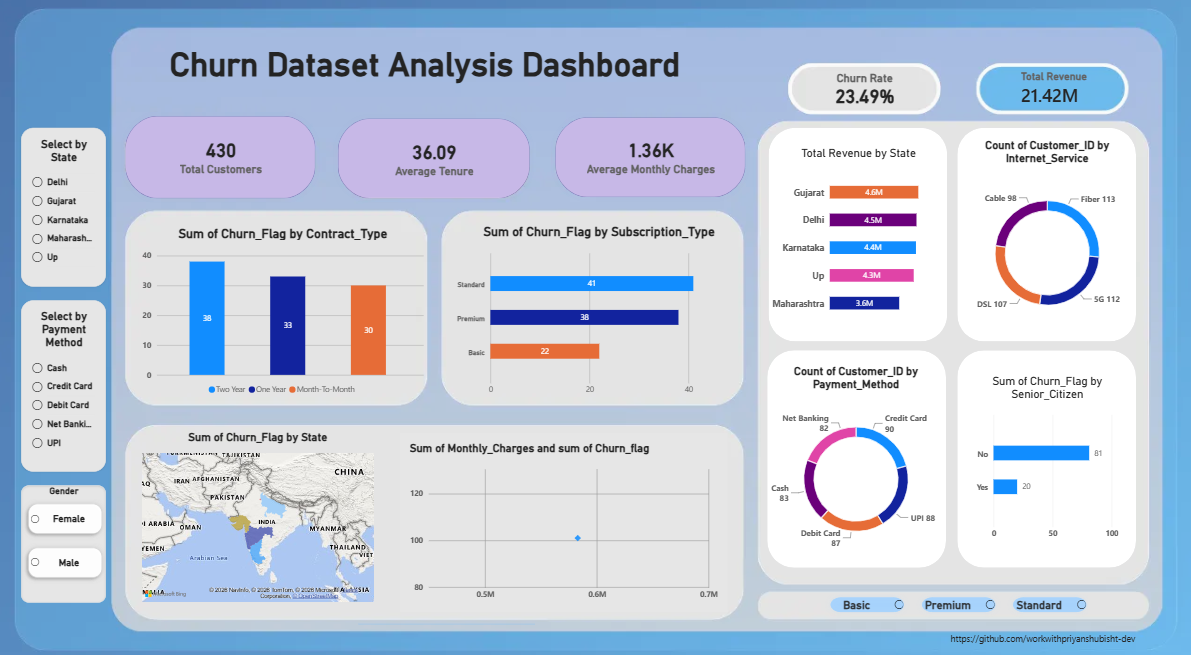

This screenshot's page, from the dashboard's own definition file:
{"tool":"powerbi","page":{"name":"Page 1","canvas":[1920,1080],"ordinal":0},"visuals":[{"type":"shape","box":[579.1,936.2,282.2,144.4],"z":0},{"type":"cardVisual","fields":{"Data":["measures dax.Total Customers"]},"box":[196,184,326,154],"z":1000},{"type":"cardVisual","fields":{"Data":["measures dax.Average Tenure"]},"box":[536,188,329,150],"z":2000},{"type":"cardVisual","fields":{"Data":["measures dax.Average Monthly Charges"]},"box":[884,186,326,150],"z":3000},{"type":"cardVisual","fields":{"Data":["measures dax.Total Revenue"]},"box":[1624,116,144,70],"z":4000},{"type":"cardVisual","fields":{"Data":["measures dax.Churn Rate"]},"box":[1306,106,168,94],"z":5000},{"type":"textbox","box":[278,82,956,102],"z":6000},{"type":"columnChart","title":"Sum of Churn_Flag by Contract_Type","fields":{"Category":["cleaned_churn_data.Contract_Type"],"Series":["cleaned_churn_data.Contract_Type"],"Y":["Sum(cleaned_churn_data.Churn_Flag)"]},"box":[218,356,482,306],"z":7000},{"type":"barChart","title":"Sum of Churn_Flag by Subscription_Type","fields":{"Category":["cleaned_churn_data.Subscription_Type"],"Series":["cleaned_churn_data.Subscription_Type"],"Y":["Sum(cleaned_churn_data.Churn_Flag)"]},"box":[720,354,490,308],"z":8000},{"type":"filledMap","title":"Sum of Churn_Flag by State ","fields":{"Category":["cleaned_churn_data.State"],"Series":["cleaned_churn_data.State"]},"box":[218,684,402,306],"z":9000},{"type":"scatterChart","title":"Sum of Monthly_Charges and sum of Churn_flag","fields":{"X":["Sum(cleaned_churn_data.Monthly_Charges)"],"Y":["Sum(cleaned_churn_data.Churn_Flag)"]},"box":[645,702.5,525,287.5],"z":10000},{"type":"shape","box":[1236,214,286,342],"z":11000},{"type":"shape","box":[1538,570,286,348],"z":12000},{"type":"shape","box":[1538,214,286,342],"z":13000},{"type":"shape","box":[1234,570,286,348],"z":14000},{"type":"barChart","title":"Total Revenue by State","fields":{"Category":["cleaned_churn_data.State"],"Series":["cleaned_churn_data.State"],"Y":["measures dax.Total Revenue"]},"box":[1224,230,312,310],"z":15000},{"type":"donutChart","fields":{"Category":["cleaned_churn_data.Internet_Service"],"Y":["CountNonNull(cleaned_churn_data.Customer_ID)"]},"box":[1530,216,304,340],"z":16000},{"type":"donutChart","fields":{"Category":["cleaned_churn_data.Payment_Method"],"Y":["CountNonNull(cleaned_churn_data.Customer_ID)"]},"box":[1224,578,304,340],"z":17000},{"type":"barChart","fields":{"Category":["cleaned_churn_data.Senior_Citizen"],"Y":["Sum(cleaned_churn_data.Churn_Flag)"]},"box":[1552,594,260,298],"z":18000},{"type":"advancedSlicerVisual","fields":{"Values":["cleaned_churn_data.Subscription_Type"]},"box":[1304,954,464,46],"z":19000},{"type":"listSlicer","title":"Select by State","fields":{"Values":["cleaned_churn_data.State"]},"box":[40,214,136,254],"z":20000},{"type":"listSlicer","title":"Select by Payment Method","fields":{"Values":["cleaned_churn_data.Payment_Method"]},"box":[40,490,136,274],"z":21000},{"type":"advancedSlicerVisual","fields":{"Values":["cleaned_churn_data.Gender"]},"box":[40,786,136,188],"z":22000},{"type":"textbox","box":[1474,1022,360,30],"z":22001}]}

Visuals, with their boxes in screenshot pixels (x1, y1, x2, y2), scaled from the page's 1920x1080 canvas onto the 1191x655 screenshot:
shape: x1=359, y1=568, x2=534, y2=654
cardVisual - measures dax.Total Customers: x1=122, y1=112, x2=324, y2=205
cardVisual - measures dax.Average Tenure: x1=332, y1=114, x2=537, y2=205
cardVisual - measures dax.Average Monthly Charges: x1=548, y1=113, x2=751, y2=204
cardVisual - measures dax.Total Revenue: x1=1007, y1=70, x2=1097, y2=113
cardVisual - measures dax.Churn Rate: x1=810, y1=64, x2=914, y2=121
textbox: x1=172, y1=50, x2=765, y2=112
"Sum of Churn_Flag by Contract_Type" columnChart: x1=135, y1=216, x2=434, y2=401
"Sum of Churn_Flag by Subscription_Type" barChart: x1=447, y1=215, x2=751, y2=401
"Sum of Churn_Flag by State " filledMap: x1=135, y1=415, x2=385, y2=600
"Sum of Monthly_Charges and sum of Churn_flag" scatterChart: x1=400, y1=426, x2=726, y2=600
shape: x1=767, y1=130, x2=944, y2=337
shape: x1=954, y1=346, x2=1131, y2=557
shape: x1=954, y1=130, x2=1131, y2=337
shape: x1=765, y1=346, x2=943, y2=557
"Total Revenue by State" barChart: x1=759, y1=139, x2=953, y2=328
donutChart - cleaned_churn_data.Internet_Service x CountNonNull(cleaned_churn_data.Customer_ID): x1=949, y1=131, x2=1138, y2=337
donutChart - cleaned_churn_data.Payment_Method x CountNonNull(cleaned_churn_data.Customer_ID): x1=759, y1=351, x2=948, y2=557
barChart - cleaned_churn_data.Senior_Citizen x Sum(cleaned_churn_data.Churn_Flag): x1=963, y1=360, x2=1124, y2=541
advancedSlicerVisual - cleaned_churn_data.Subscription_Type: x1=809, y1=579, x2=1097, y2=606
"Select by State" listSlicer: x1=25, y1=130, x2=109, y2=284
"Select by Payment Method" listSlicer: x1=25, y1=297, x2=109, y2=463
advancedSlicerVisual - cleaned_churn_data.Gender: x1=25, y1=477, x2=109, y2=591
textbox: x1=914, y1=620, x2=1138, y2=638
